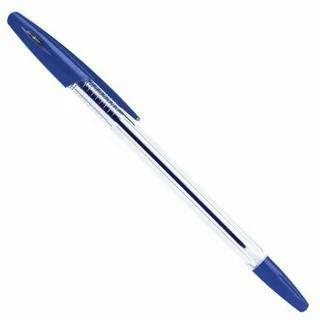pen-pencil: (10, 12, 307, 309)
